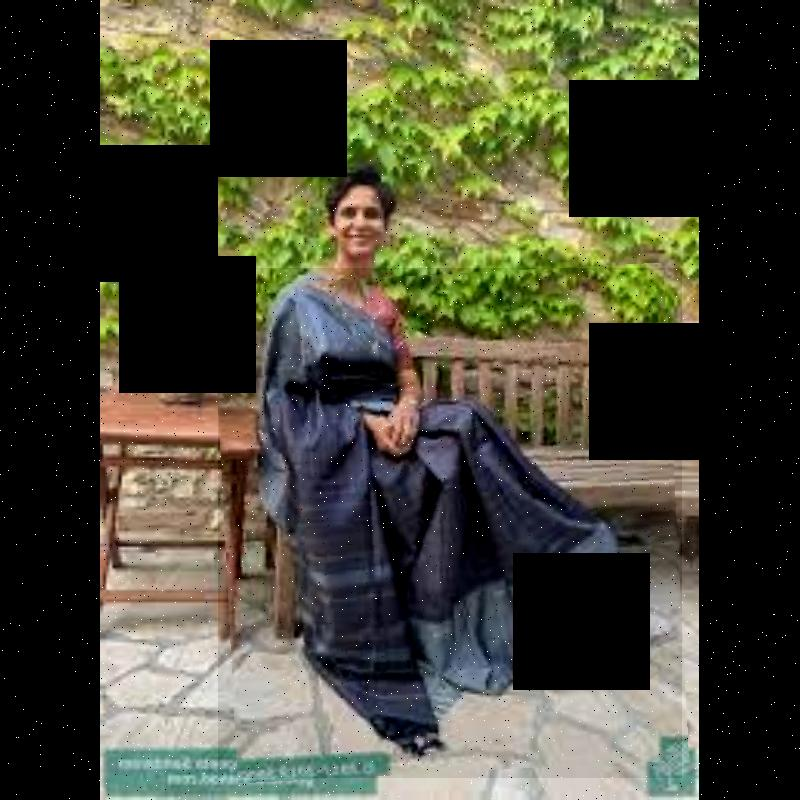Saree: (218, 268, 682, 778)
